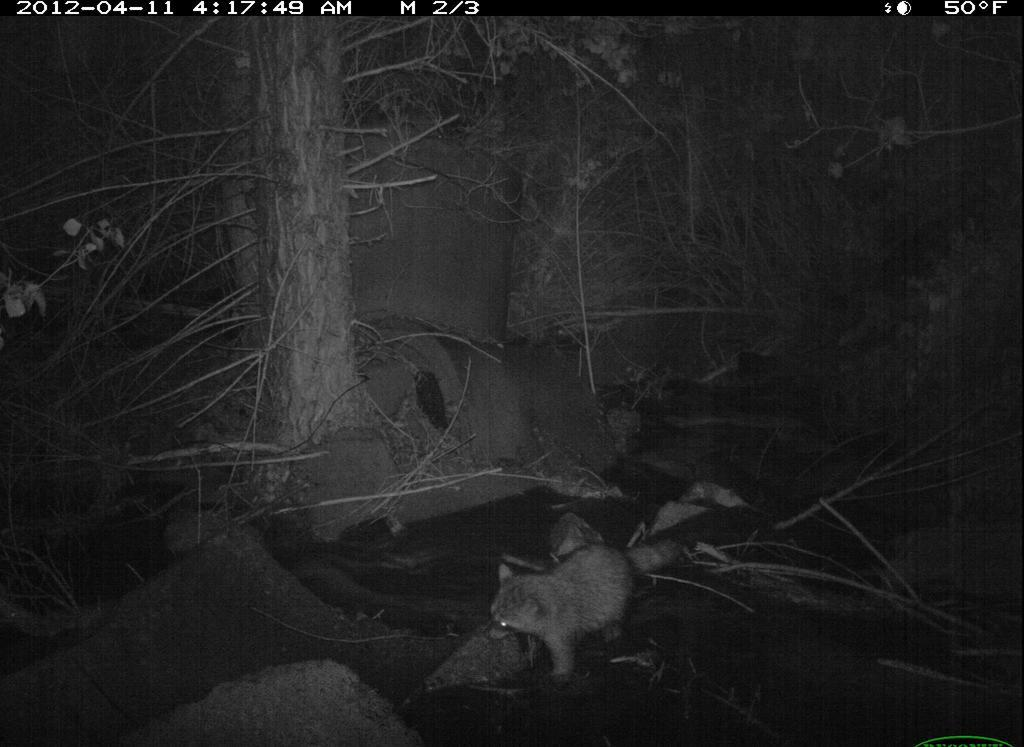raccoon: (491, 525, 698, 684)
